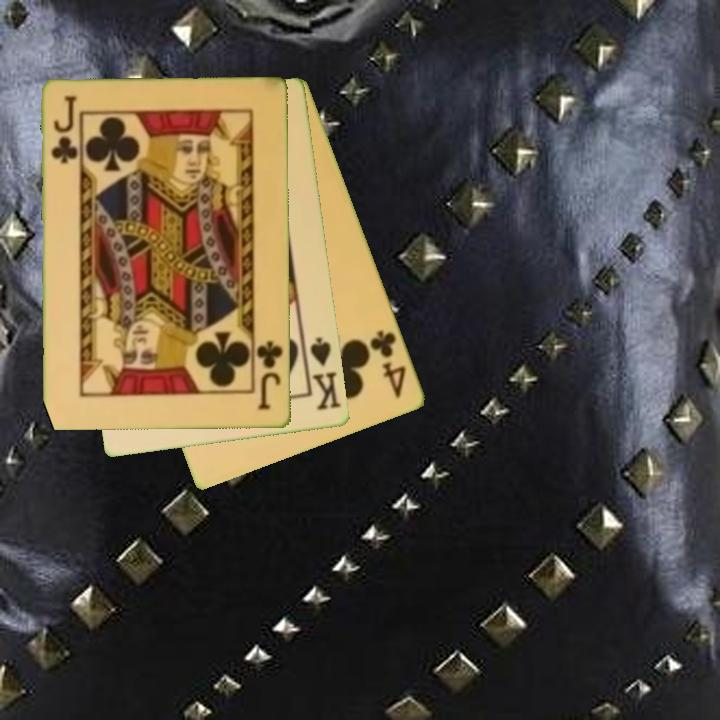4c: (366, 327, 410, 402)
Jc: (253, 337, 286, 413), (48, 93, 79, 167)
Ks: (301, 334, 345, 413)
